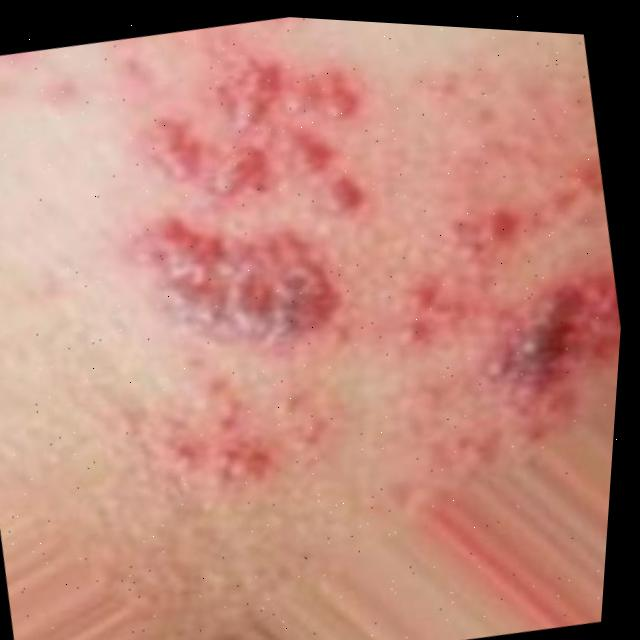Shingles: (96, 36, 411, 380), (368, 156, 631, 470), (125, 345, 348, 513)
